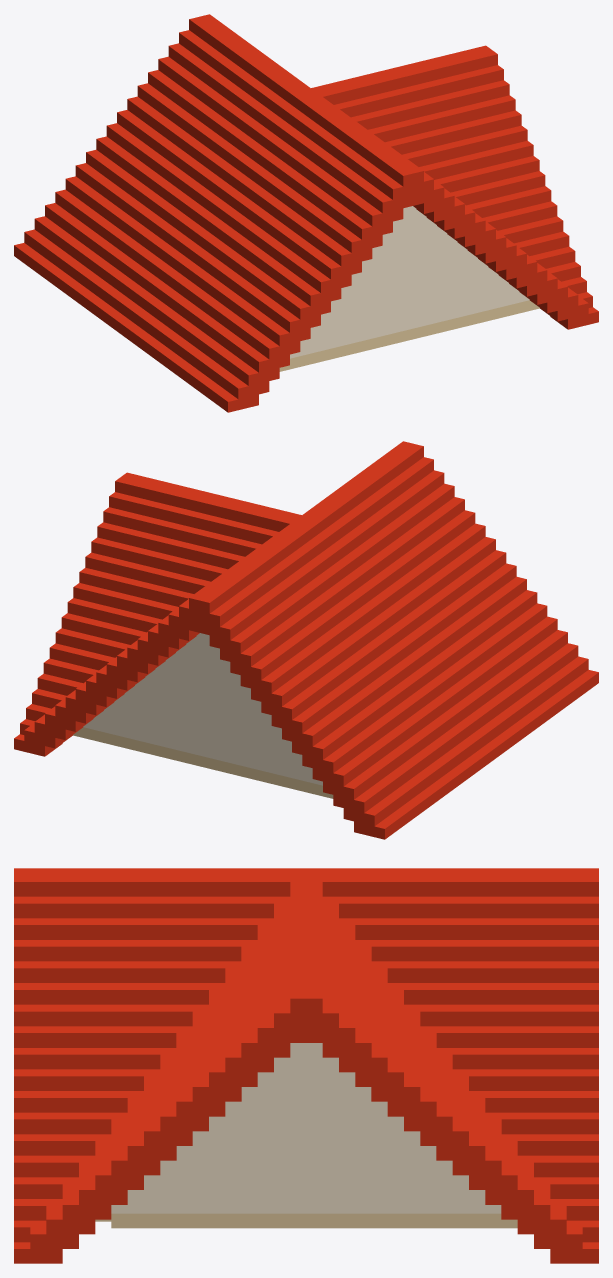
Rendered from roof_T.obj.
3 renders of one model, top to bottom at view 1: azimuth 30°, elevation 25°; view 2: azimuth 150°, elevation 25°; view 3: azimuth 270°, elevation 25°, orthographic. The views are drawn at different scales.
Size of the model in its own units: 3.6 by 1.8 by 3.6.
1 material, 1 textured.
